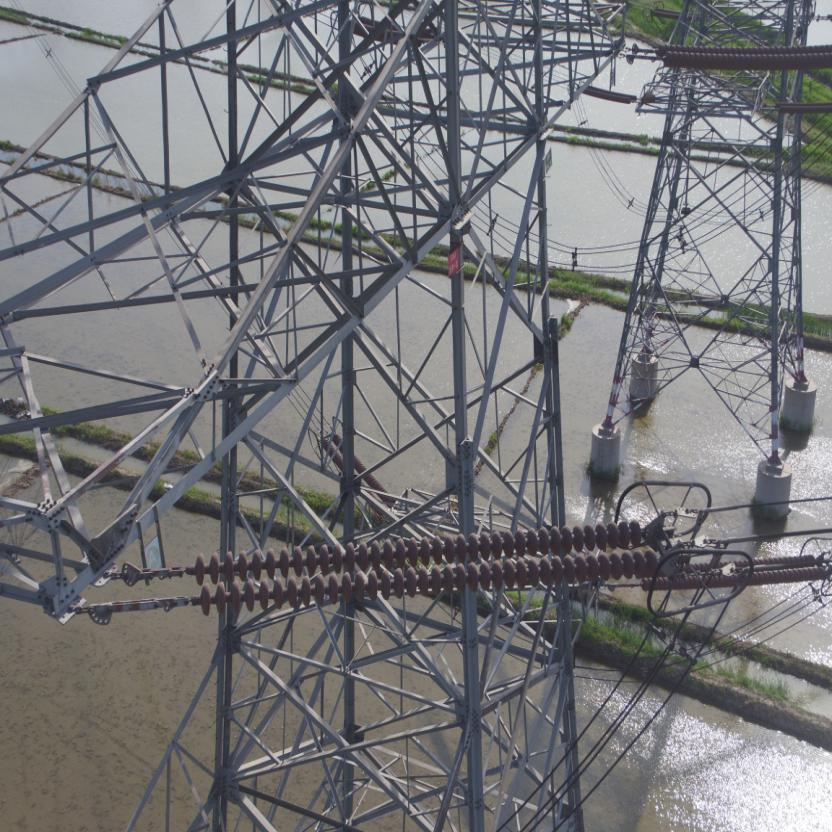insulator: (174, 513, 665, 620), (640, 553, 830, 592), (654, 41, 831, 68)
